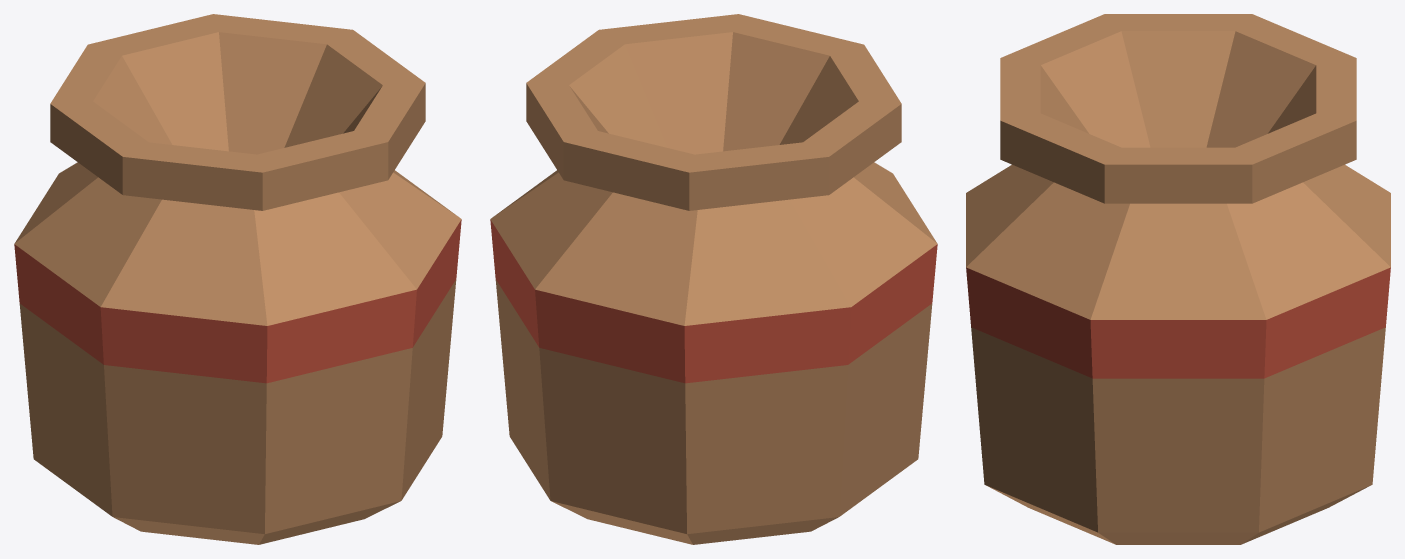
Rendered from Jug_03.fbx.
3 views of the same model, side by side, from view 1: azimuth 30°, elevation 25°; view 2: azimuth 150°, elevation 25°; view 3: azimuth 270°, elevation 25° (orthographic).
Parts seen in each view (by area): view 1: Jug_03; view 2: Jug_03; view 3: Jug_03.
Boxes of the visible parts, x1=… form: Jug_03: x1=14, y1=14, x2=461, y2=544; Jug_03: x1=490, y1=14, x2=937, y2=544; Jug_03: x1=966, y1=14, x2=1390, y2=544.
Size of the model in its own units: 34.78 by 35.43 by 34.78.
